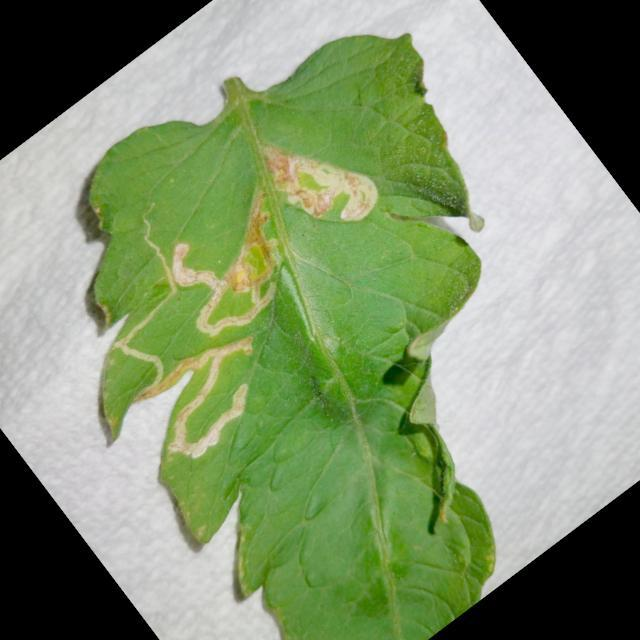Tomato target spot leaf: (76, 33, 499, 640)
